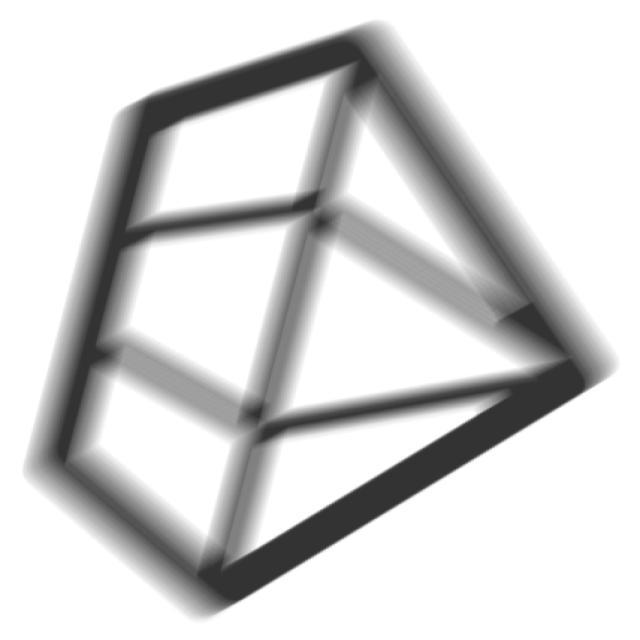diamond: (7, 8, 634, 640)
